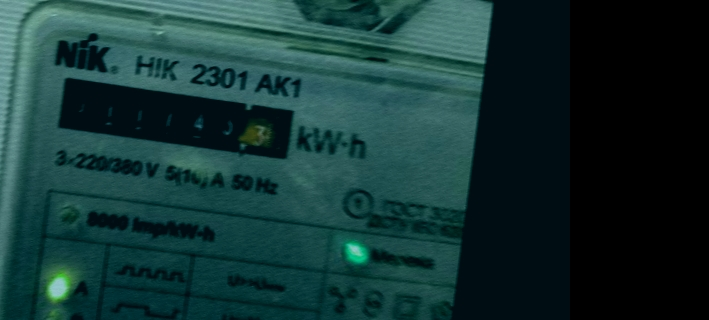0: (71, 87, 88, 116)
1: (131, 95, 147, 124), (103, 91, 116, 119)
3: (219, 109, 237, 138), (249, 122, 266, 149)
4: (190, 105, 207, 134)
7: (160, 99, 179, 128)
screen: (46, 65, 306, 171)
